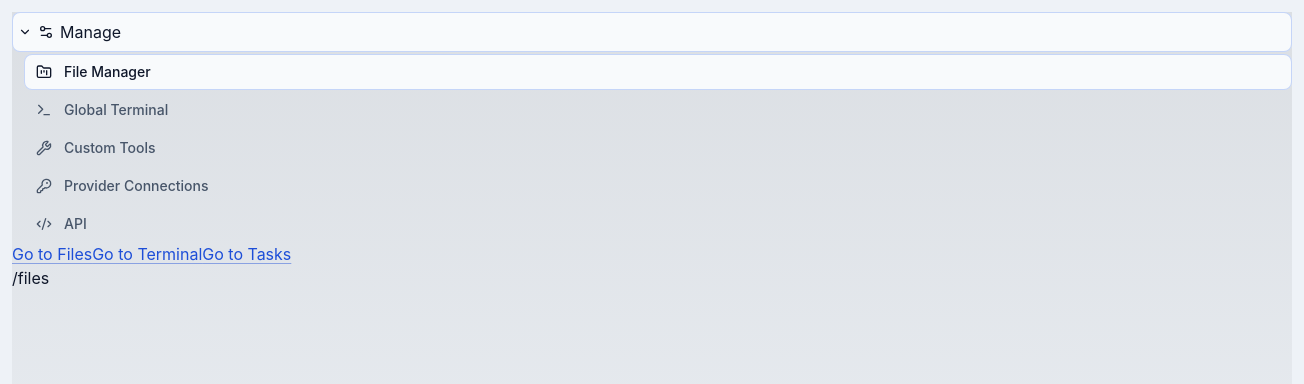
ManageSidebarSection › does not override a manual toggle while staying on a Manage page
Expected: the link "File Manager" is shown, [24,54,1292,90]
Click the button with aria-label "Collapse Manage": [91, 32] box [12,12,1292,52]
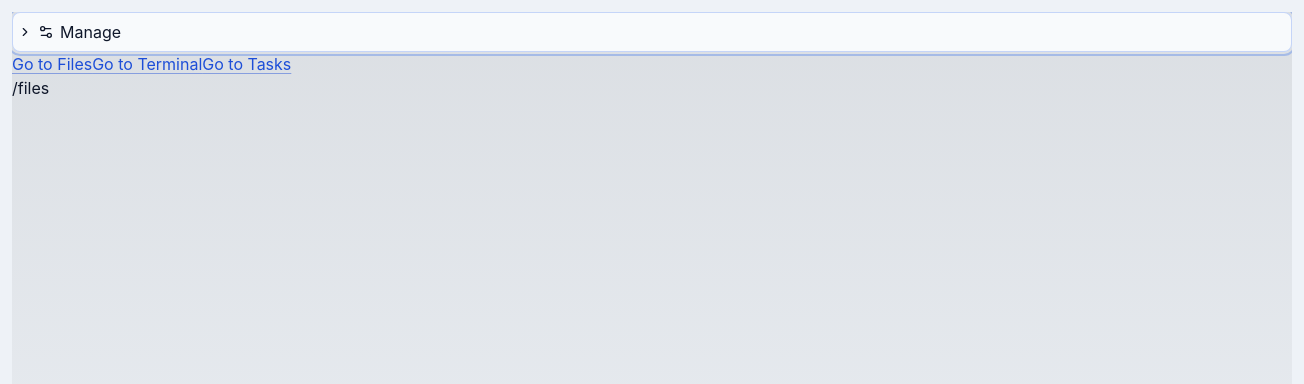
Expected: the link "File Manager" is gone
Expected: the button with aria-label "Expand Manage" is shown, [12,12,1292,52]
